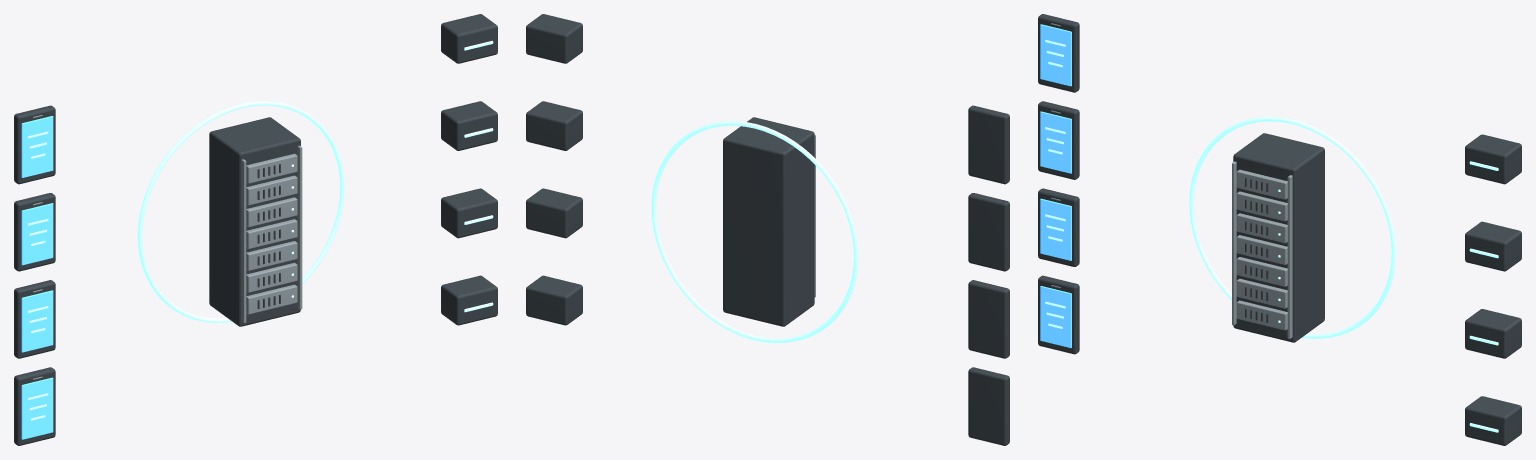
File: message-pipeline.glb
The picture shows the model from 3 angles, left to right: view 1: azimuth 30°, elevation 25°; view 2: azimuth 150°, elevation 25°; view 3: azimuth 330°, elevation 25°; orthographic projection.
Parts seen in each view (by area): view 1: Rack chassis, Processing orbit, Output channel.001, Output channel, Output channel.002, Output channel.003, Display, Display.001, Display.002, Display.003, Device enclosure.001, Device enclosure.003 (+11 smaller); view 2: Rack chassis, Processing orbit, Device enclosure.003, Device enclosure.001, Device enclosure, Device enclosure.002, Output channel, Output channel.001, Output channel.002, Output channel.003; view 3: Rack chassis, Processing orbit, Output channel.003, Output channel.001, Output channel.002, Output channel, Display.001, Display.002, Display.003, Display, Device enclosure.002, Device enclosure.003 (+11 smaller).
Boxes of the visible parts, <box> form: Rack chassis: <box>209,117,300,326</box>; Processing orbit: <box>137,101,344,322</box>; Output channel.001: <box>441,188,497,238</box>; Output channel: <box>441,275,497,325</box>; Output channel.002: <box>441,101,497,150</box>; Output channel.003: <box>441,14,497,63</box>; Display: <box>21,377,53,439</box>; Display.001: <box>21,290,53,352</box>; Display.002: <box>21,203,53,265</box>; Display.003: <box>21,116,53,177</box>; Device enclosure.001: <box>14,280,55,358</box>; Device enclosure.003: <box>14,105,55,184</box>; Rack chassis: <box>723,117,814,326</box>; Processing orbit: <box>651,121,858,343</box>; Device enclosure.003: <box>968,105,1009,184</box>; Device enclosure.001: <box>968,280,1009,358</box>; Device enclosure: <box>968,367,1009,445</box>; Device enclosure.002: <box>968,193,1009,271</box>; Output channel: <box>526,275,582,325</box>; Output channel.001: <box>526,188,582,238</box>; Output channel.002: <box>526,101,582,150</box>; Output channel.003: <box>526,14,582,63</box>; Rack chassis: <box>1233,133,1324,342</box>; Processing orbit: <box>1189,116,1396,338</box>; Output channel.003: <box>1465,134,1521,184</box>; Output channel.001: <box>1465,309,1521,358</box>; Output channel.002: <box>1465,221,1521,271</box>; Output channel: <box>1465,396,1521,445</box>; Display.001: <box>1040,198,1071,260</box>; Display.002: <box>1040,111,1071,173</box>; Display.003: <box>1040,24,1071,86</box>; Display: <box>1040,286,1071,347</box>; Device enclosure.002: <box>1038,101,1079,179</box>; Device enclosure.003: <box>1038,14,1079,92</box>.
Size of the model in its own units: 7.97 by 5.3 by 1.
